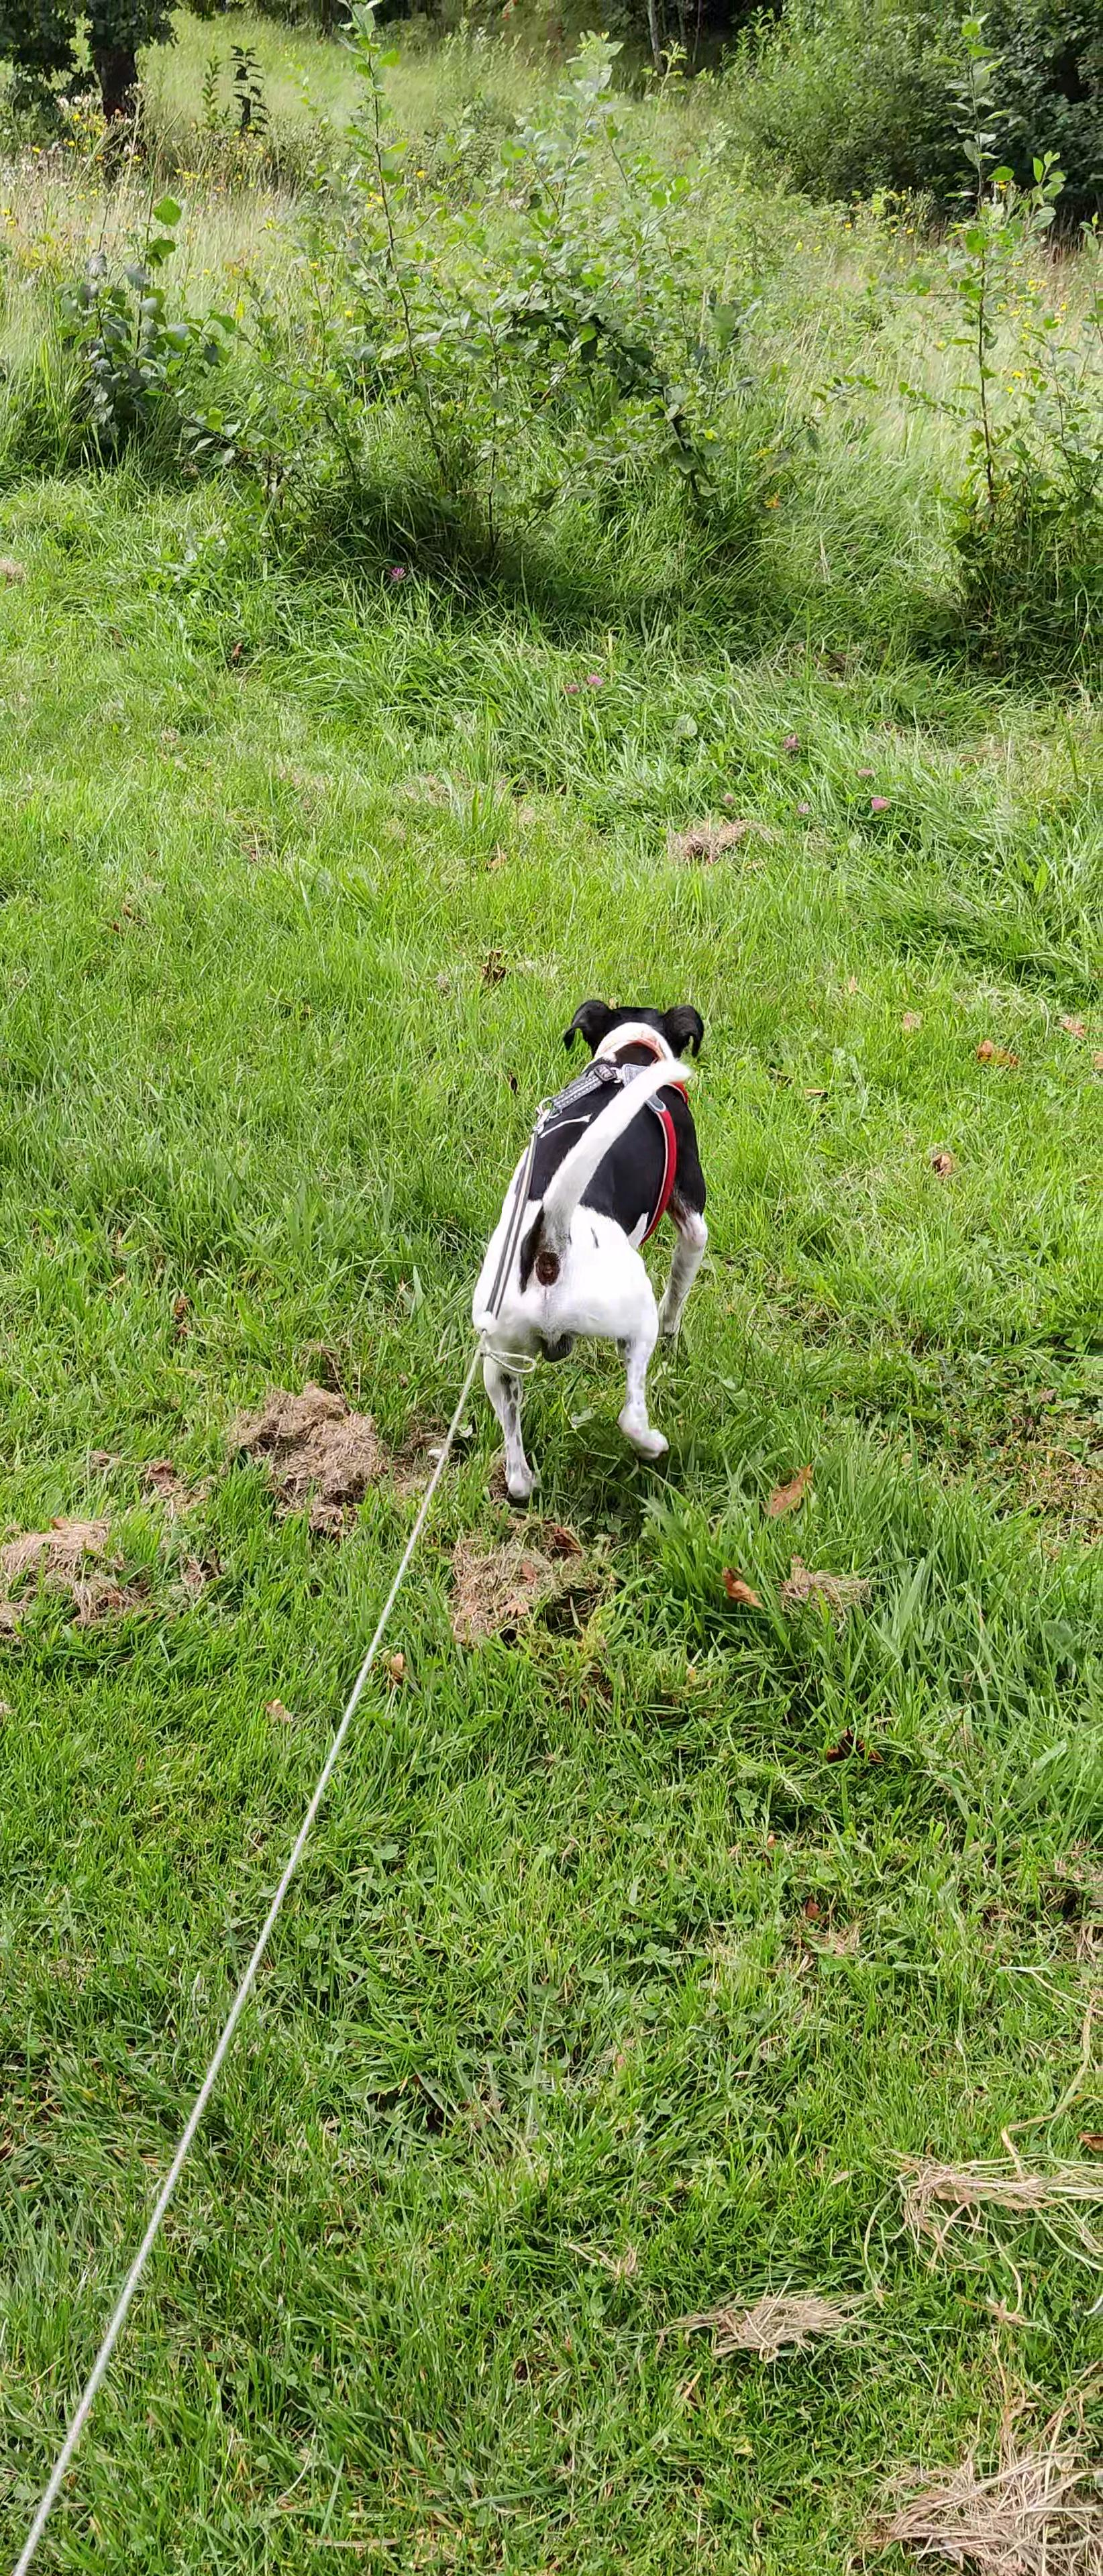Dog: (439, 976, 761, 1526)
